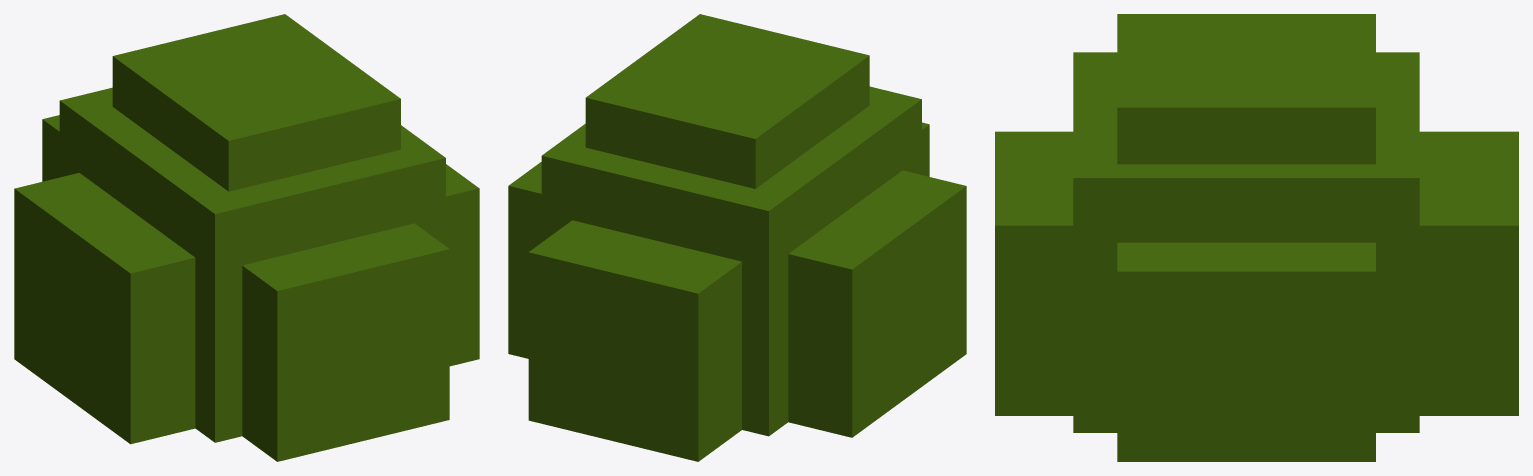
The model's file is bush3.FBX.
3 renders of one model, left to right at view 1: azimuth 30°, elevation 25°; view 2: azimuth 150°, elevation 25°; view 3: azimuth 270°, elevation 25°, orthographic. The views are drawn at different scales.
Visible parts, largest first — view 1: bush3; view 2: bush3; view 3: bush3.
Part boxes in pixels (x1,y1,x2,y2): bush3: (14,14,479,461); bush3: (508,14,966,461); bush3: (995,14,1518,461).
Bounding box in the file's own units: 3.62 × 2.77 × 4.22.
